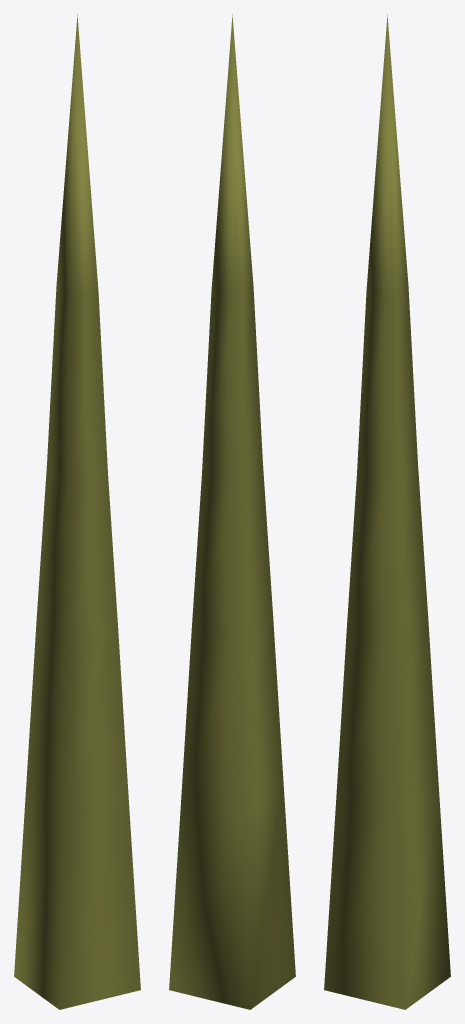
File: YN_Grass6.fbx
The picture shows the model from 3 angles, left to right: view 1: azimuth 30°, elevation 25°; view 2: azimuth 150°, elevation 25°; view 3: azimuth 330°, elevation 25°; orthographic projection.
Visible parts, largest first — view 1: Grass6; view 2: Grass6; view 3: Grass6.
Boxes of the visible parts, bbox=[...] form: Grass6: bbox=[14, 14, 140, 1009]; Grass6: bbox=[169, 14, 295, 1009]; Grass6: bbox=[324, 14, 450, 1009].
Size of the model in its own units: 0.0636 by 0.7237 by 0.0616.
